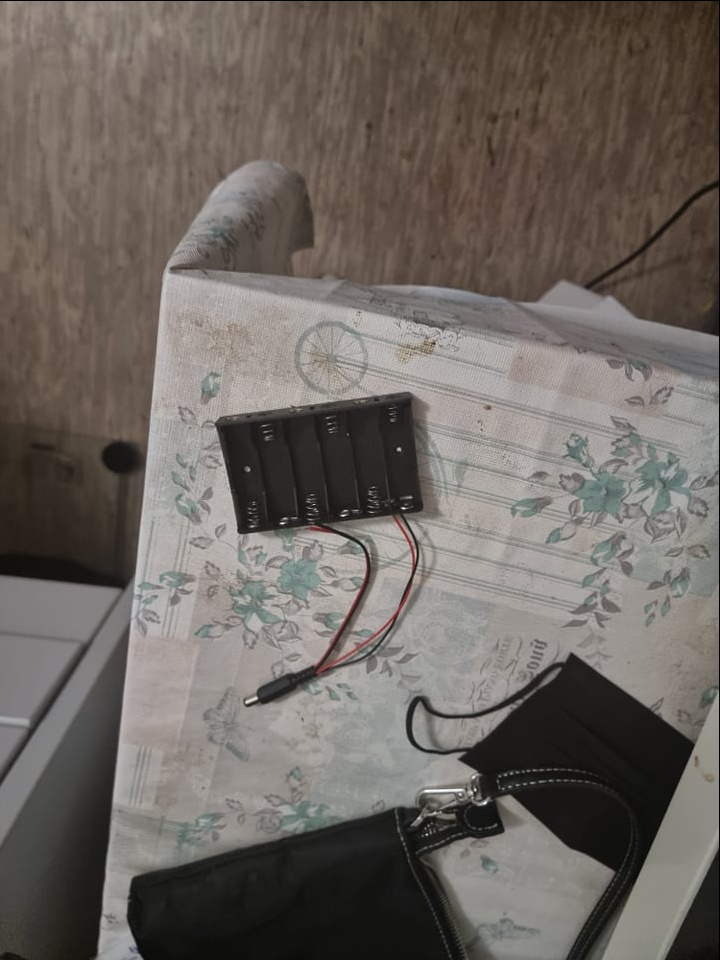BATTERY BOX: (216, 385, 424, 540)
